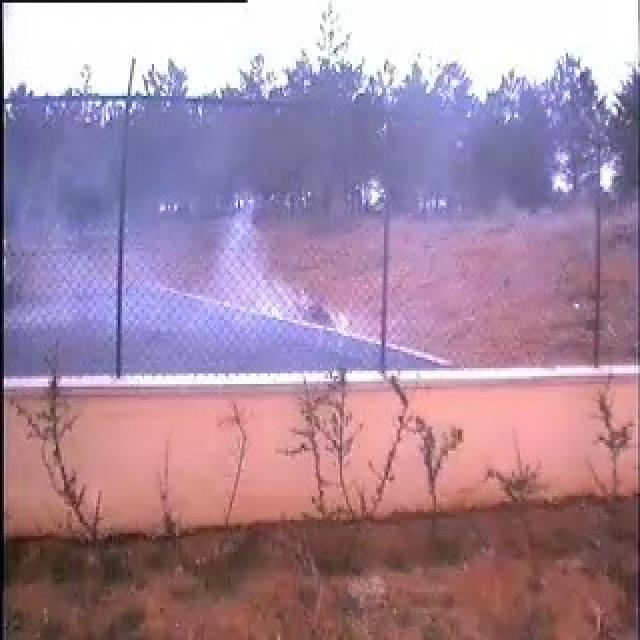smoke: (120, 103, 392, 375)
